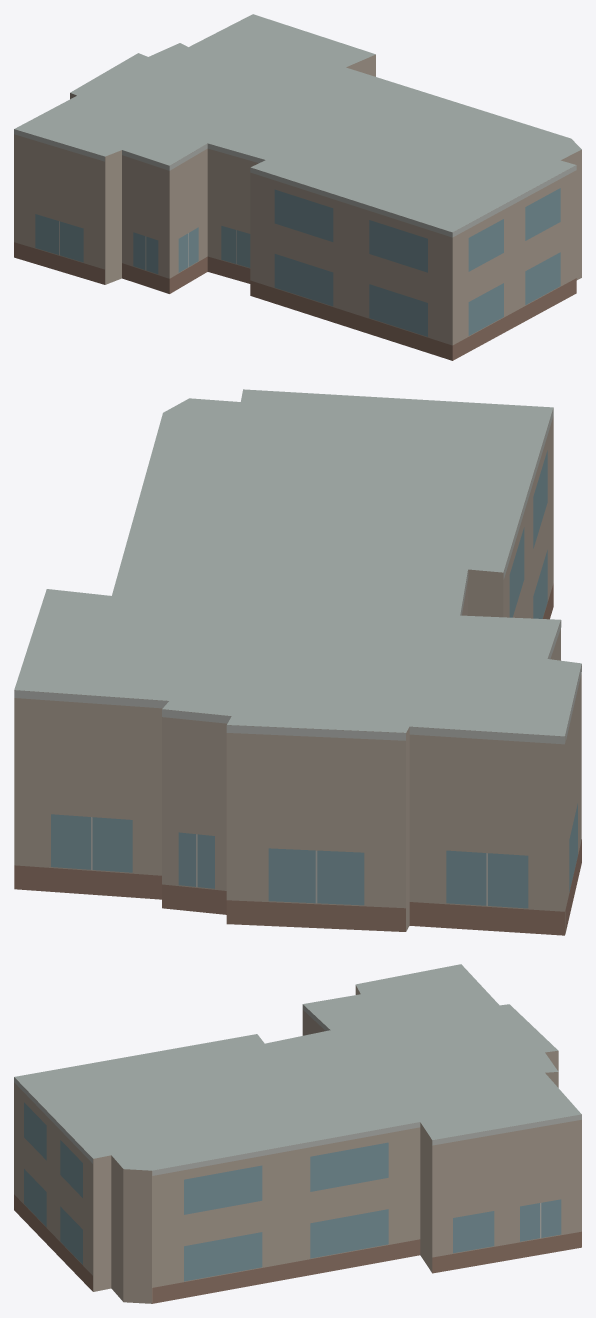
Rendered from survey-upis-32852076.glb.
The picture shows the model from 3 angles, top to bottom: view 1: azimuth 30°, elevation 25°; view 2: azimuth 150°, elevation 25°; view 3: azimuth 270°, elevation 25°; orthographic projection. The views are drawn at different scales.
Visible parts, largest first — view 1: survey-upis-32852076.tmp; view 2: survey-upis-32852076.tmp; view 3: survey-upis-32852076.tmp.
Boxes of the visible parts, x1,y1,x2,y2 form: survey-upis-32852076.tmp: [14, 14, 581, 360]; survey-upis-32852076.tmp: [14, 389, 581, 935]; survey-upis-32852076.tmp: [14, 964, 581, 1303].
Size of the model in its own units: 20.31 by 6.1 by 23.58.
